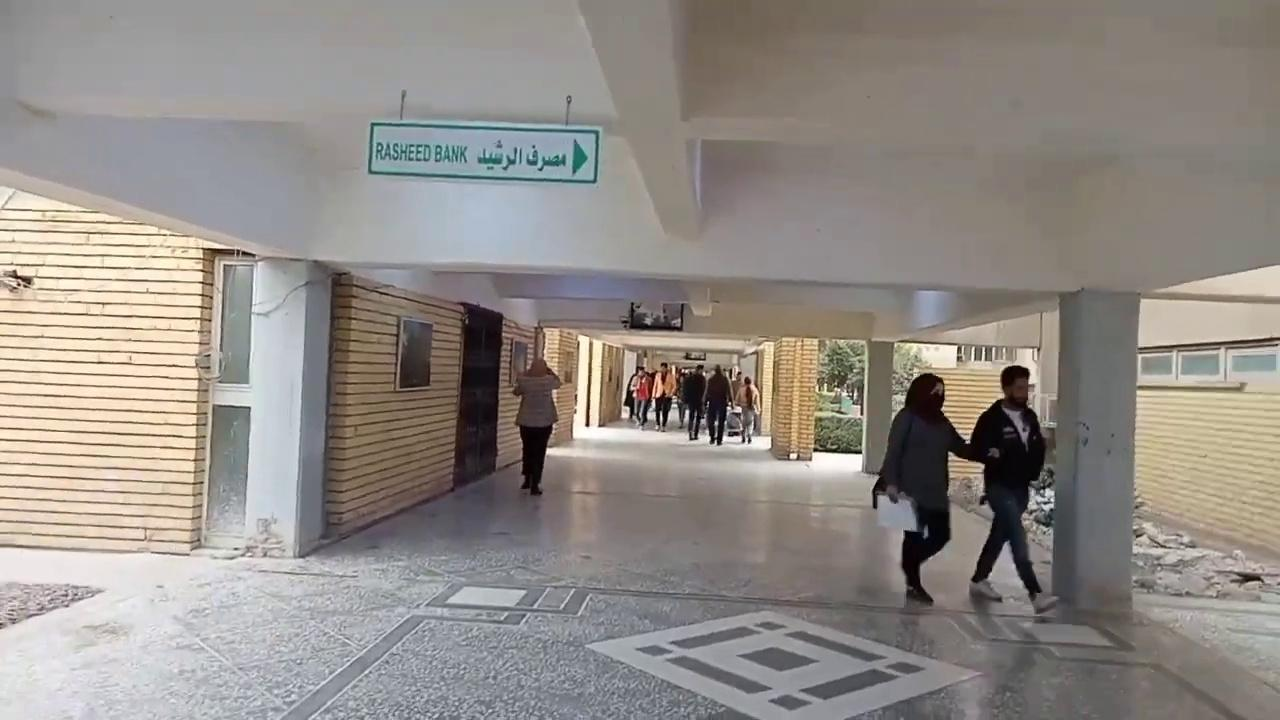person: (874, 372, 998, 603), (968, 364, 1046, 602), (511, 358, 563, 495)
tree: (817, 339, 859, 397), (890, 342, 929, 395), (1026, 465, 1056, 528)
